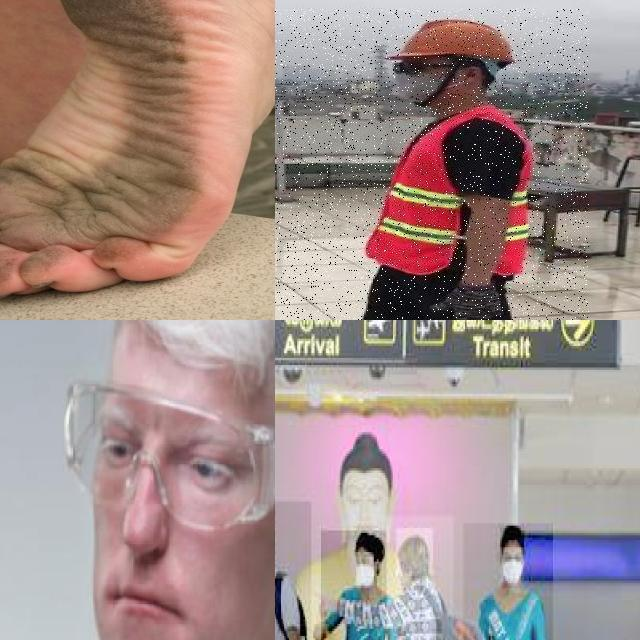Barefoots: (0, 0, 251, 297)
face_mask: (502, 547, 524, 583), (356, 552, 374, 586)
face_nomask: (72, 410, 263, 640), (396, 557, 417, 593)
glasses: (60, 372, 275, 526)
head_helmet: (397, 16, 522, 65)
head_nohelmet: (396, 528, 433, 576), (355, 526, 377, 557), (500, 526, 524, 547)
person: (275, 9, 589, 320), (463, 523, 554, 640), (381, 516, 455, 640), (321, 530, 388, 640)
vest: (368, 108, 532, 278)
